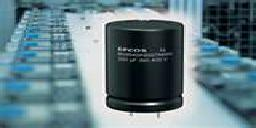Electrolytic-Capacitor: (103, 20, 188, 122)
